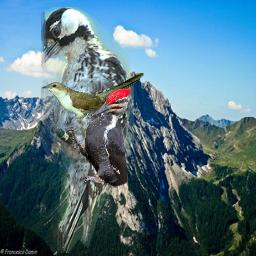Cuckoo: (41, 72, 144, 119)
Woodpecker: (41, 7, 134, 253), (66, 88, 131, 188)
